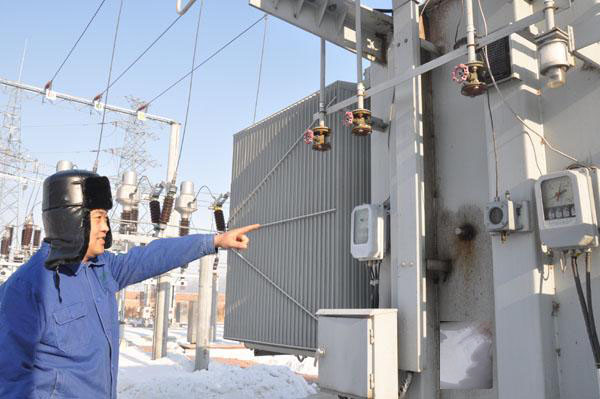oil: (443, 326, 492, 391)
